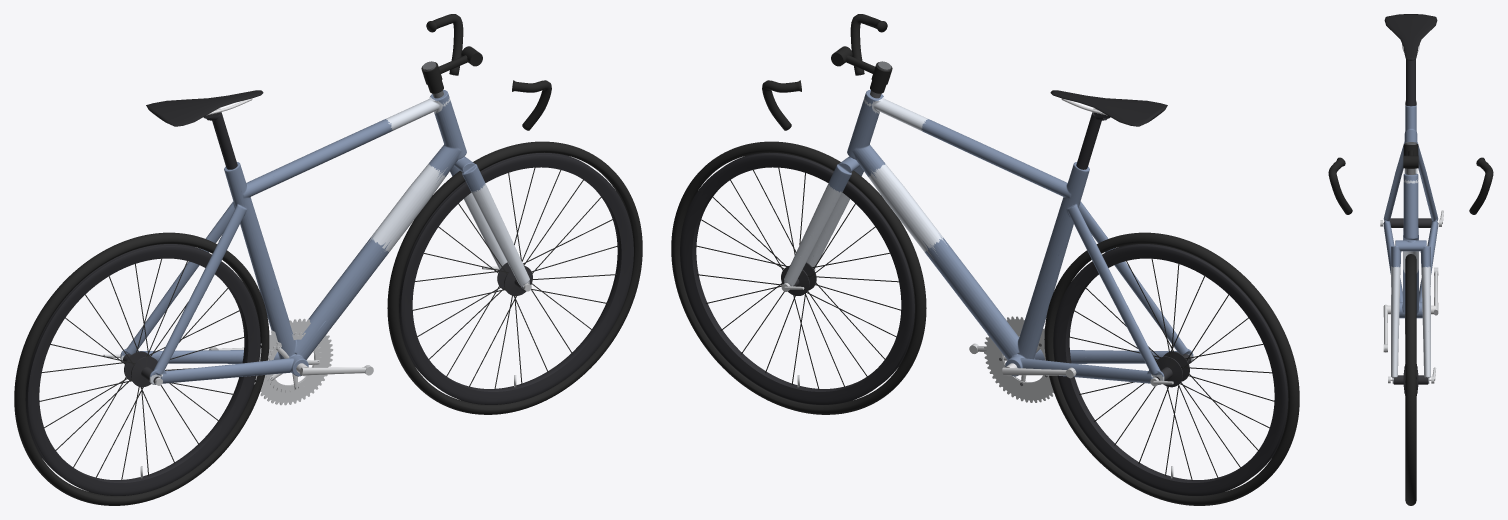
Rendered from bike_web.glb.
3 renders of one model, left to right at view 1: azimuth 30°, elevation 25°; view 2: azimuth 150°, elevation 25°; view 3: azimuth 270°, elevation 25°, orthographic. The views are drawn at different scales.
Parts seen in each view (by area): view 1: frame, rim_front, rim_rear, tyre_front, tyre_rear, spokes_front, spokes_rear, fork, chainrings, saddle, dropbar, stem (+3 smaller); view 2: frame, rim_front, rim_rear, tyre_front, tyre_rear, spokes_front, fork, spokes_rear, chainrings, saddle, dropbar, stem (+3 smaller); view 3: frame, tyre_front, fork, saddle, dropbar, crank_arms, stem, seatpost, hub_front, hub_rear.
Boxes of the visible parts, x1,y1,x2,y2 form: frame: (120, 90, 466, 384); rim_front: (399, 152, 633, 404); rim_rear: (25, 244, 260, 495); tyre_front: (387, 141, 642, 414); tyre_rear: (14, 232, 269, 505); spokes_front: (413, 167, 618, 389); spokes_rear: (39, 258, 245, 480); fork: (450, 156, 529, 288); chainrings: (254, 318, 333, 405); saddle: (146, 90, 263, 126); dropbar: (426, 14, 551, 130); stem: (421, 46, 482, 98); frame: (847, 90, 1193, 384); rim_front: (680, 152, 914, 404); rim_rear: (1053, 244, 1288, 495); tyre_front: (671, 141, 926, 414); tyre_rear: (1044, 232, 1299, 505); spokes_front: (695, 167, 900, 389); fork: (784, 156, 863, 286); spokes_rear: (1068, 258, 1274, 480); chainrings: (984, 316, 1053, 402); saddle: (1050, 90, 1167, 126); dropbar: (762, 14, 887, 130); stem: (831, 46, 892, 98); frame: (1383, 105, 1438, 318); tyre_front: (1405, 254, 1416, 505); fork: (1391, 240, 1430, 383); saddle: (1384, 14, 1437, 60); dropbar: (1328, 157, 1493, 214); crank_arms: (1383, 267, 1438, 352); stem: (1403, 142, 1418, 174); seatpost: (1406, 59, 1415, 106); hub_front: (1393, 366, 1428, 393); hub_rear: (1390, 218, 1431, 227).
Bounding box in the file's own units: 1.69 × 0.9858 × 0.4466.
